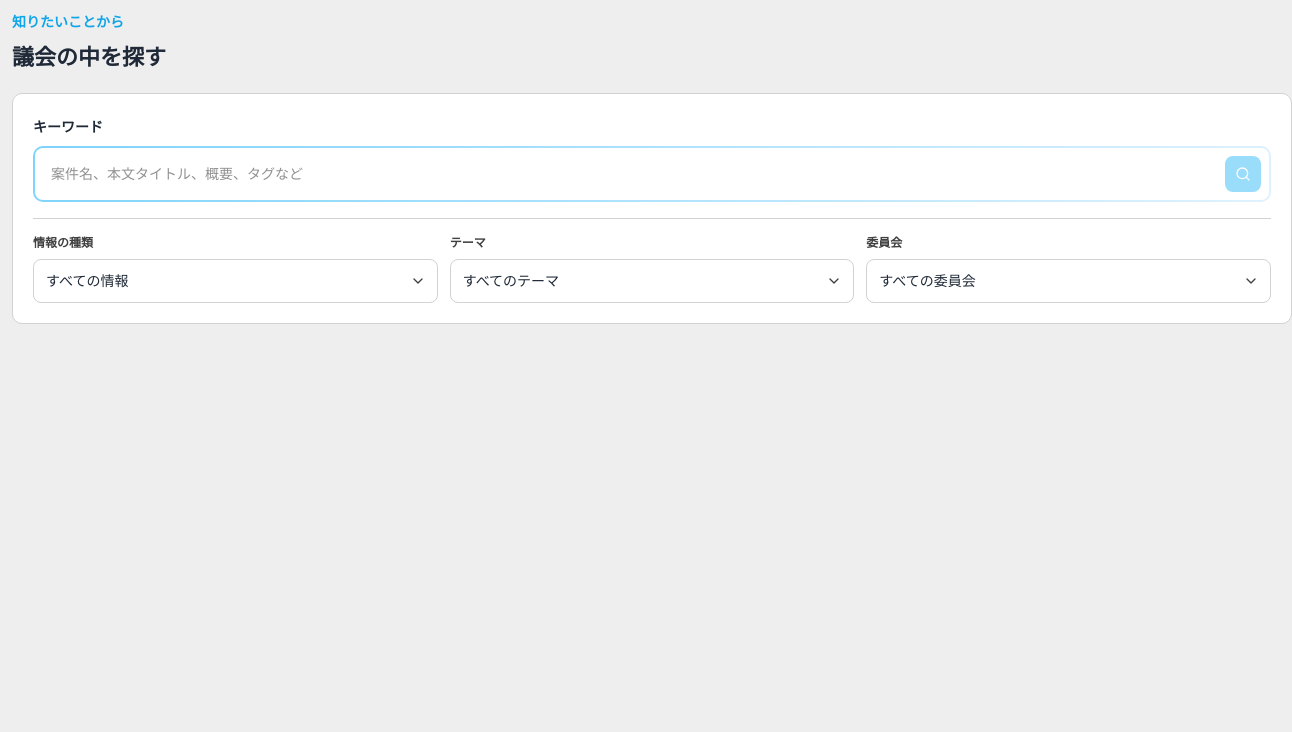
CouncilSearchSection › 0件状態から条件をクリアして通常表示へ戻せる
Type "存在しない検索語" into the search field labelled "キーワード" at (652, 174), box 35,148 -> 1269,200
Then press Enter
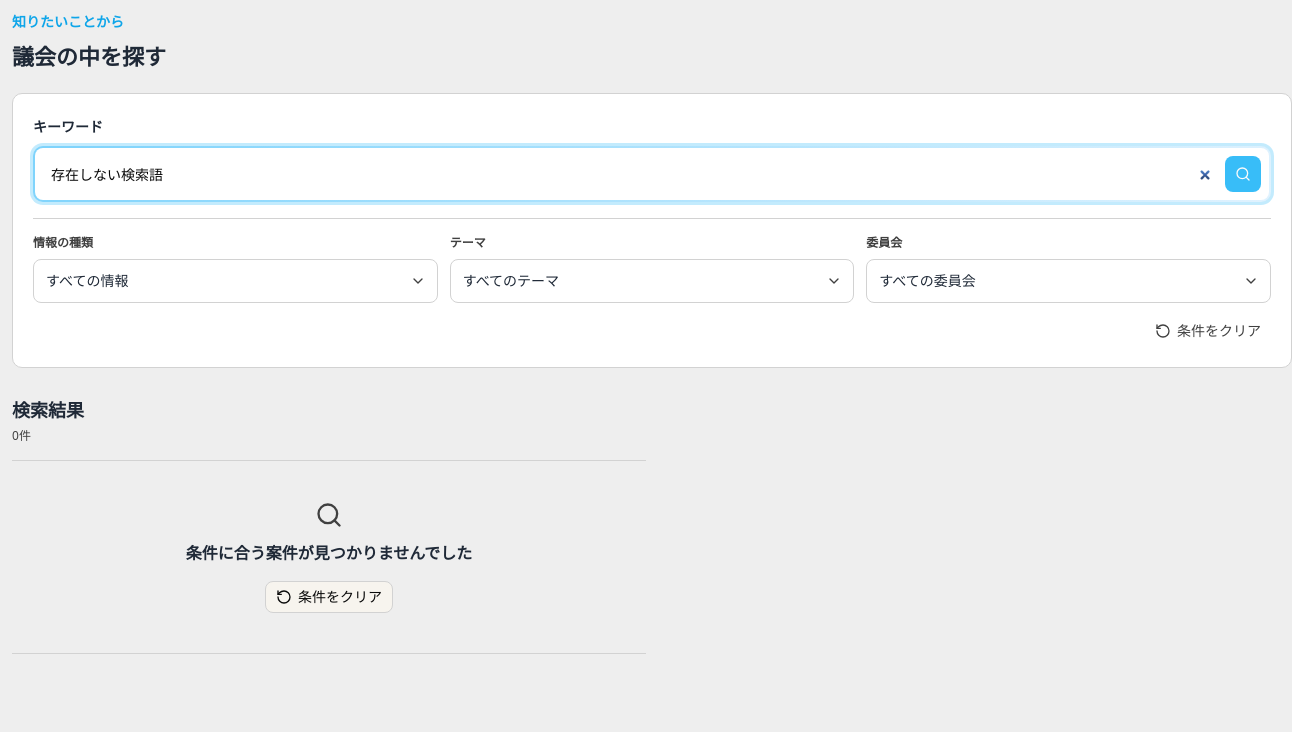
Expected: the text "条件に合う案件が見つかりませんでした" is shown, 186,542 -> 472,564
Click the button "条件をクリア" below "条件に合う案件が見つかりませんでした" at (329, 596), box 265,580 -> 393,612
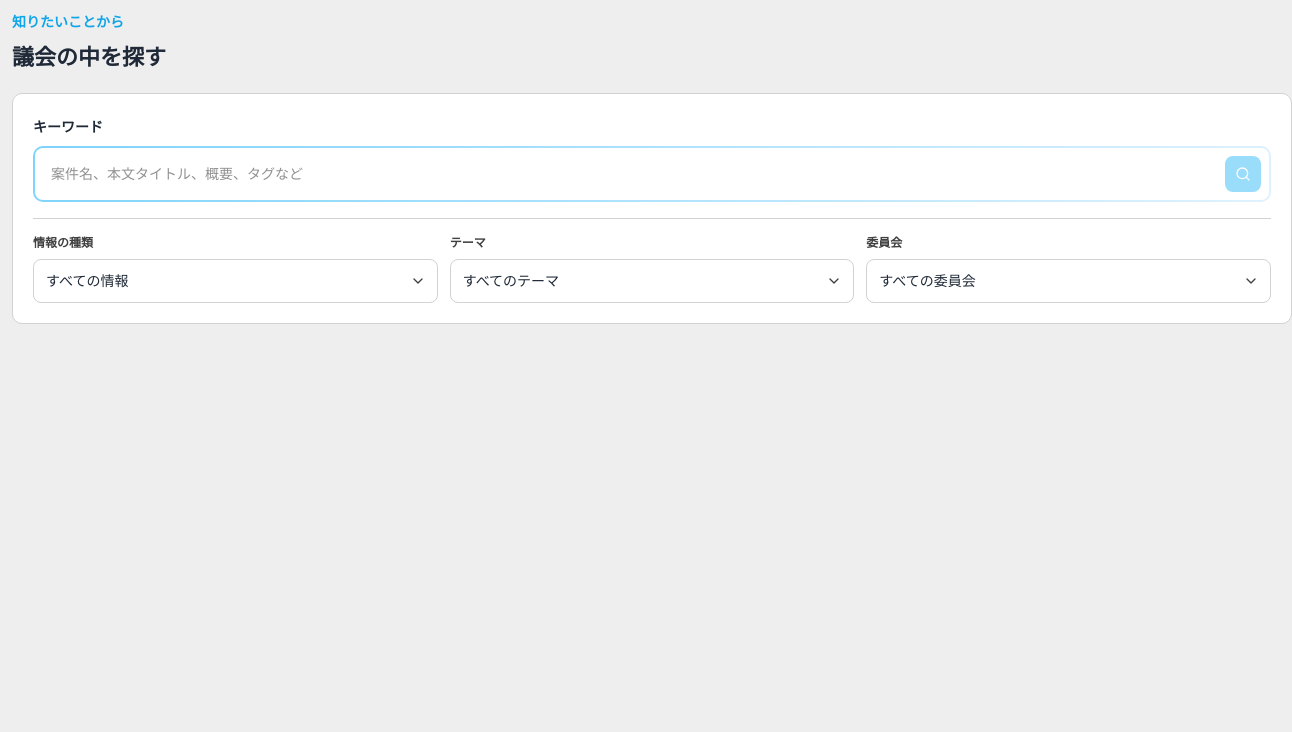
Expected: the search field labelled "キーワード" is empty, 35,148 -> 1269,200
Expected: the heading "検索結果" is gone
